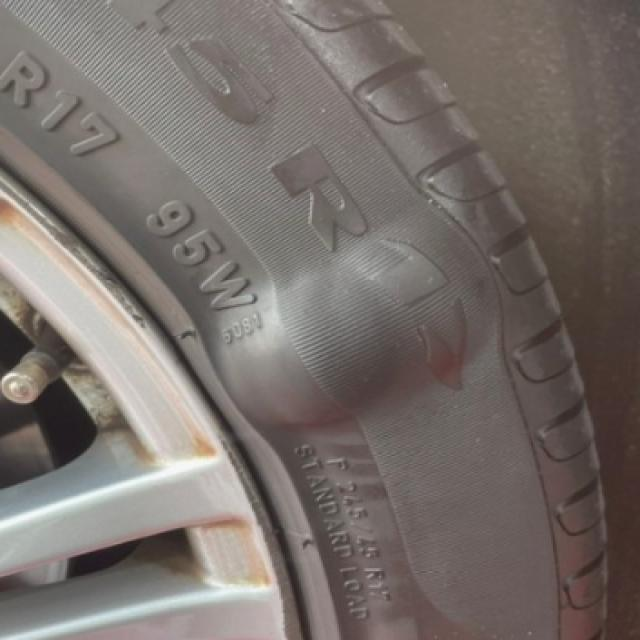Bulge: (197, 200, 528, 447)
